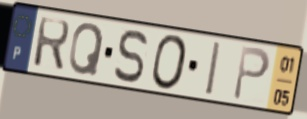I: (203, 39, 223, 99)
O: (150, 33, 190, 93)
P: (231, 44, 272, 103)
Q: (67, 20, 106, 78)
R: (31, 15, 72, 74)
S: (112, 28, 150, 86)
